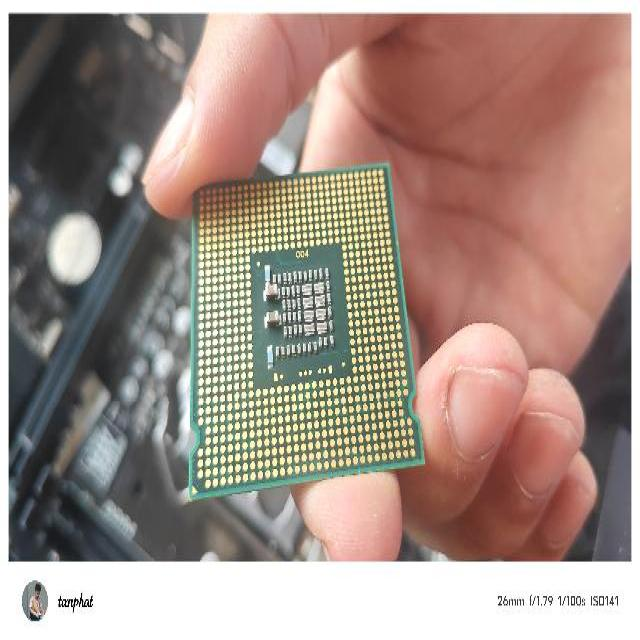CPU: (176, 161, 426, 501)
